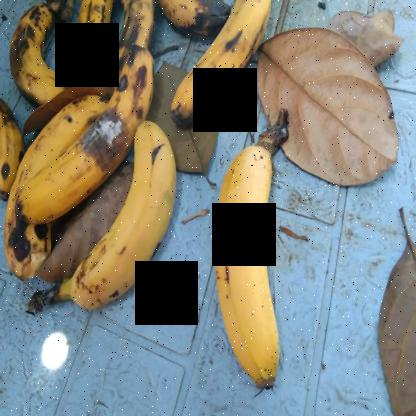freshripe: (189, 154, 297, 402)
ripe: (154, 0, 294, 146), (68, 130, 176, 318)
rotten: (17, 38, 154, 225)
